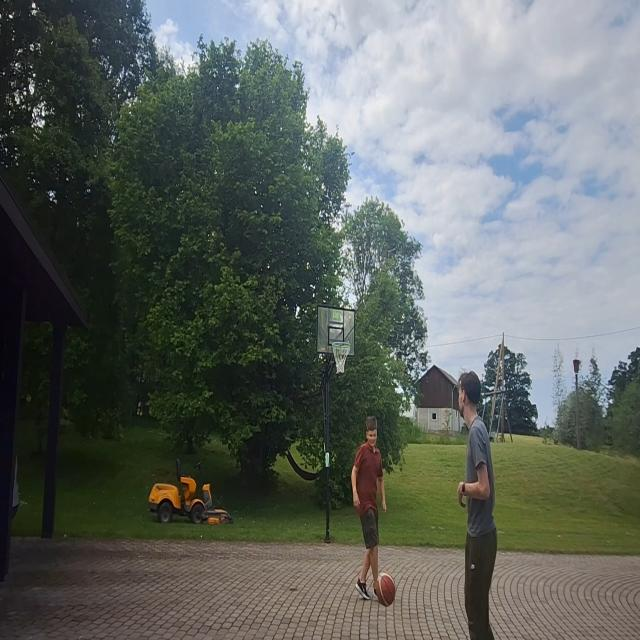ball: (376, 570, 396, 607)
basket: (332, 338, 351, 376)
player: (450, 368, 503, 640), (350, 414, 384, 601)
